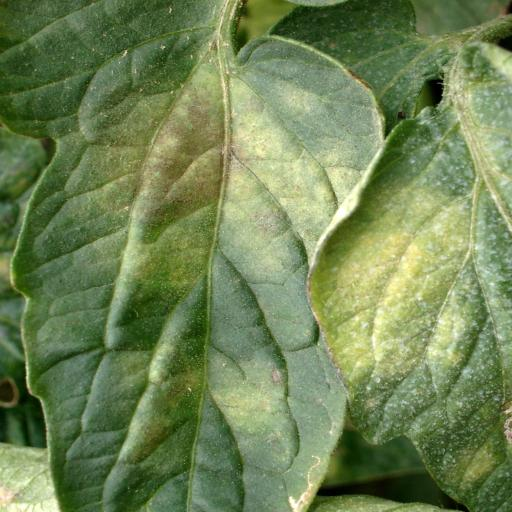disease_tomato: (0, 12, 384, 512)
